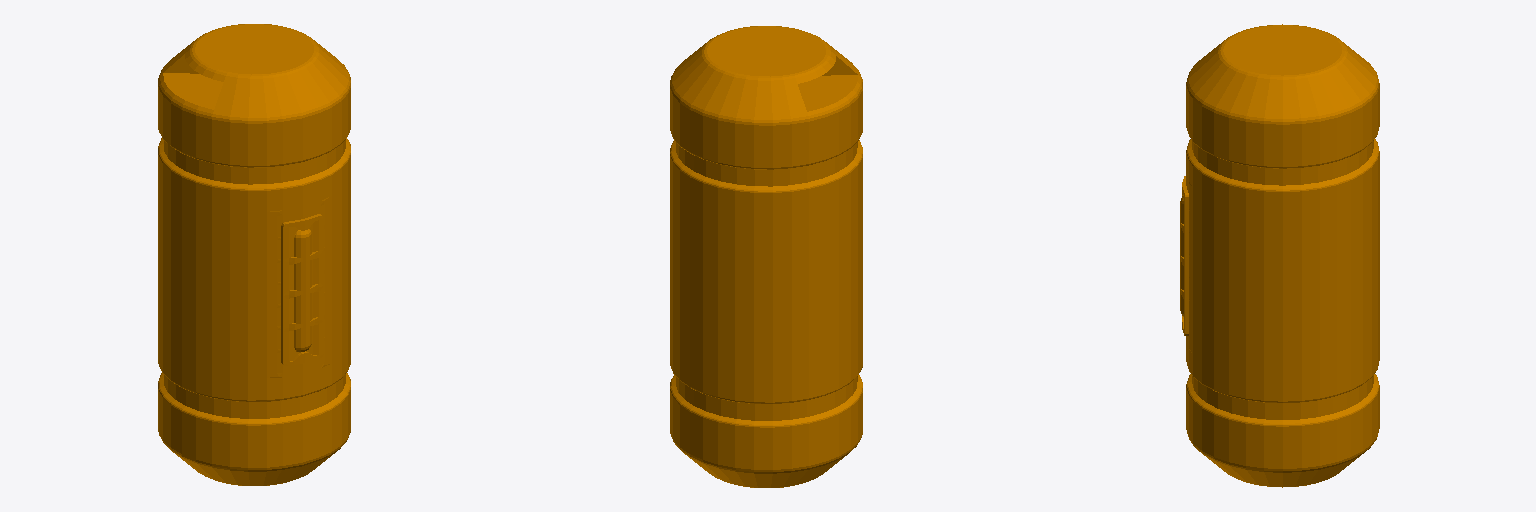
The model's file is Scream.obj.
3 views of the same model, side by side, from view 1: azimuth 30°, elevation 25°; view 2: azimuth 150°, elevation 25°; view 3: azimuth 270°, elevation 25° (orthographic).
Visible parts, largest first — view 1: CANISTER_LOW_Cylinder, PLATE_LOW_Cube.001, SCREAM-O-METER_LOW_Sphere; view 2: CANISTER_LOW_Cylinder; view 3: CANISTER_LOW_Cylinder, PLATE_LOW_Cube.001.
Part boxes in pixels (x1,y1,x2,y2): CANISTER_LOW_Cylinder: (158,24,350,485); PLATE_LOW_Cube.001: (281,214,323,365); SCREAM-O-METER_LOW_Sphere: (294,229,311,352); CANISTER_LOW_Cylinder: (670,26,862,487); CANISTER_LOW_Cylinder: (1186,24,1379,487); PLATE_LOW_Cube.001: (1181,176,1188,335).
Size of the model in its own units: 2 by 4.68 by 2.06.